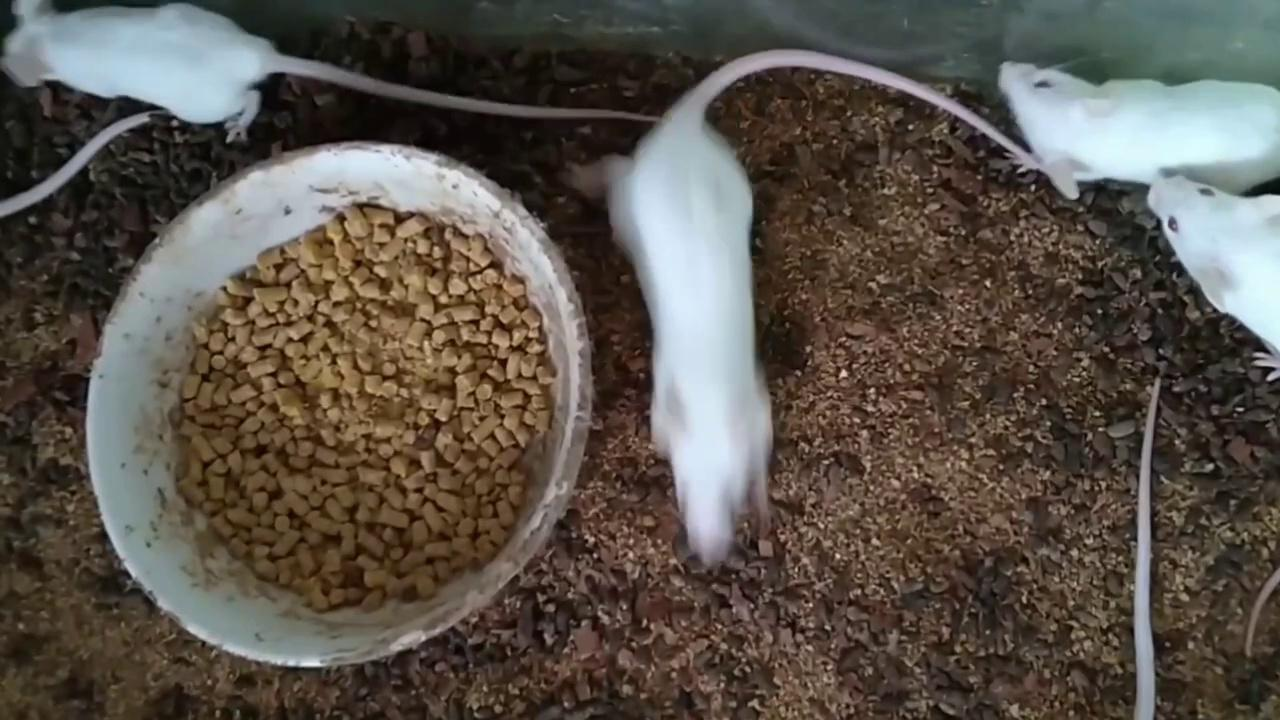rat: (562, 49, 1037, 566), (0, 0, 663, 145), (1003, 61, 1280, 201), (1149, 173, 1280, 385)
